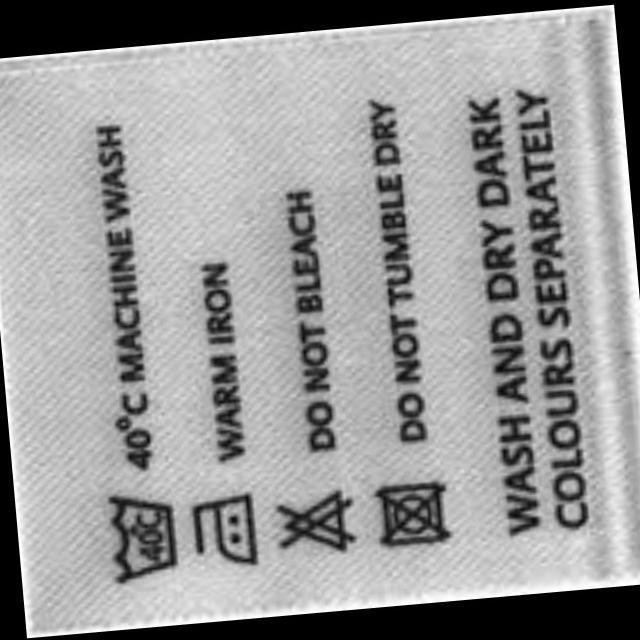40C: (96, 479, 186, 590)
DN_bleach: (266, 482, 364, 560)
DN_tumble_dry: (368, 473, 456, 554)
iron_medium: (181, 484, 267, 576)
